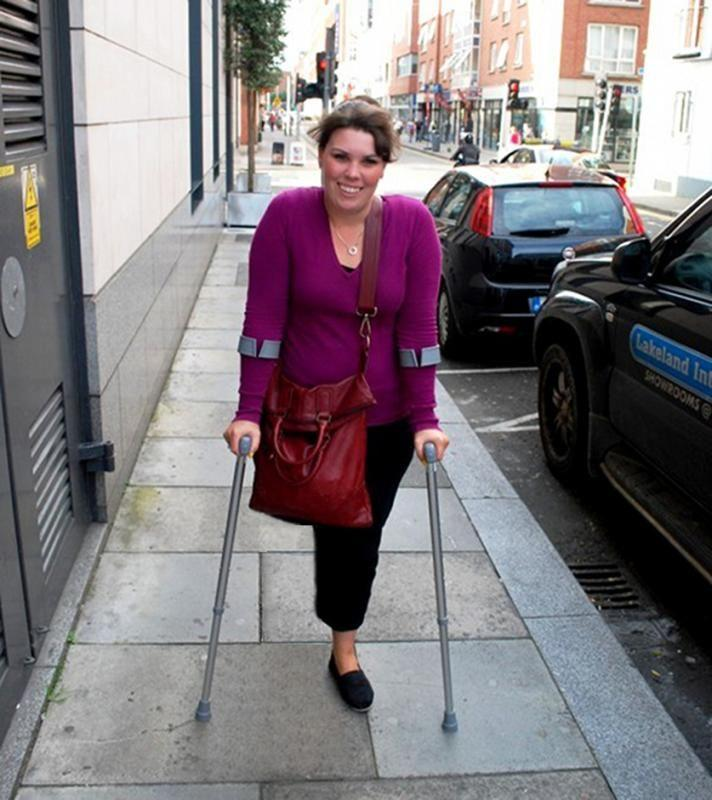crutches: (193, 96, 461, 739)
